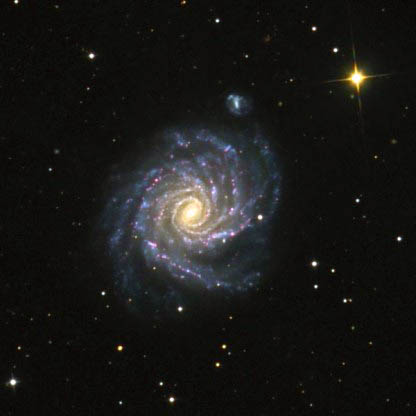NGC 1232: (95, 88, 288, 315)
